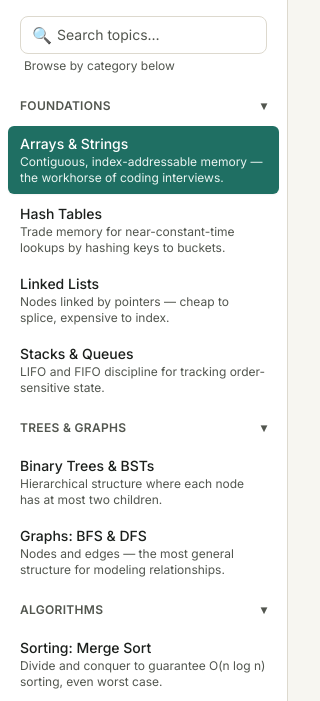
Test case: Sidebar › filters topics as the user types in the search box
Type "Binary Search" into the search field at [144, 35], box [20,16,267,54]
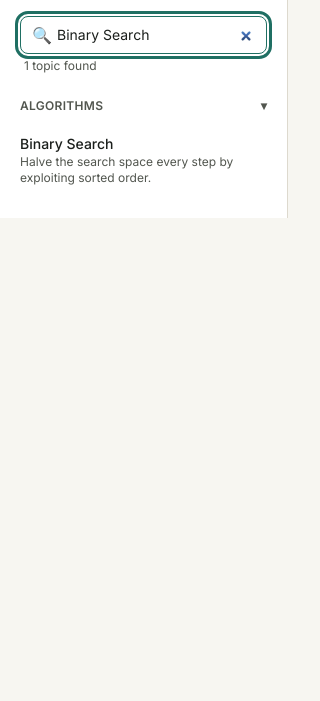
Expected: the button "Binary Search" is shown, [8,126,279,194]
Expected: the button "Hash Tables" is gone
